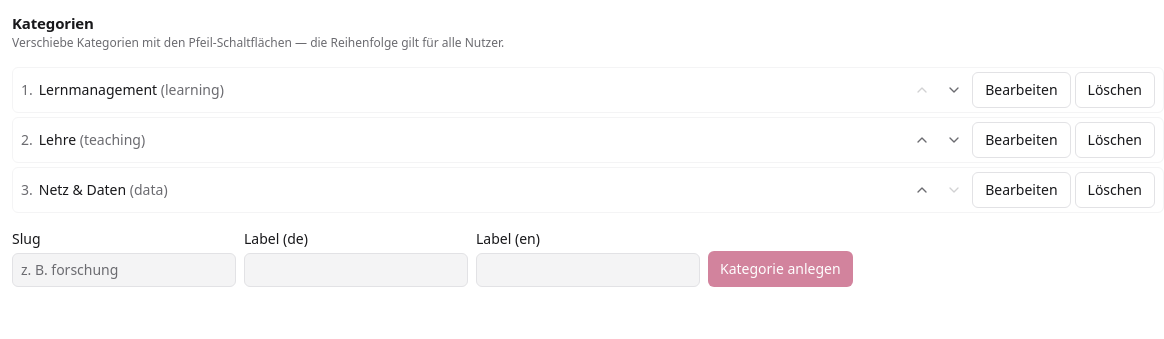
Test: CategoriesAdmin — edit, delete and reorder (issue #130) › keeps the frontend slug check as fast feedback, without owning the rule
Click the button "Bearbeiten" in the row of "Lernmanagement" at (1021, 90), box [972,72,1071,108]
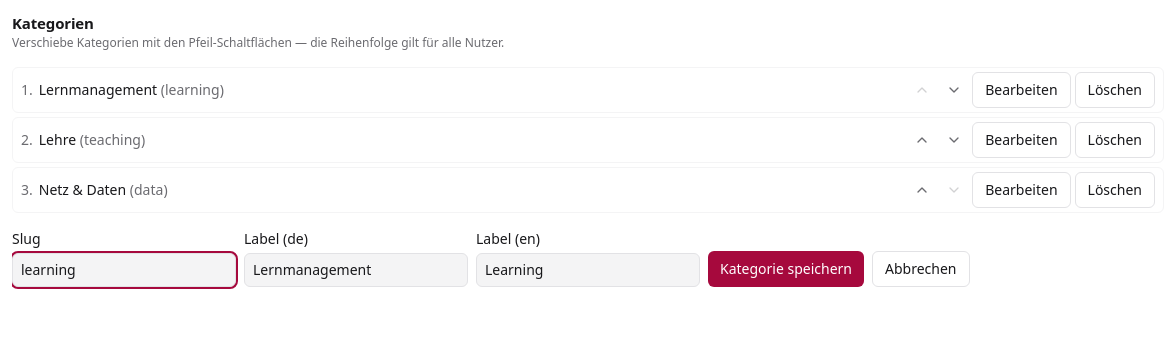
Replace the text in the field labelled "Slug" with "Foo Bar!!" at (124, 270), box [12,252,236,286]
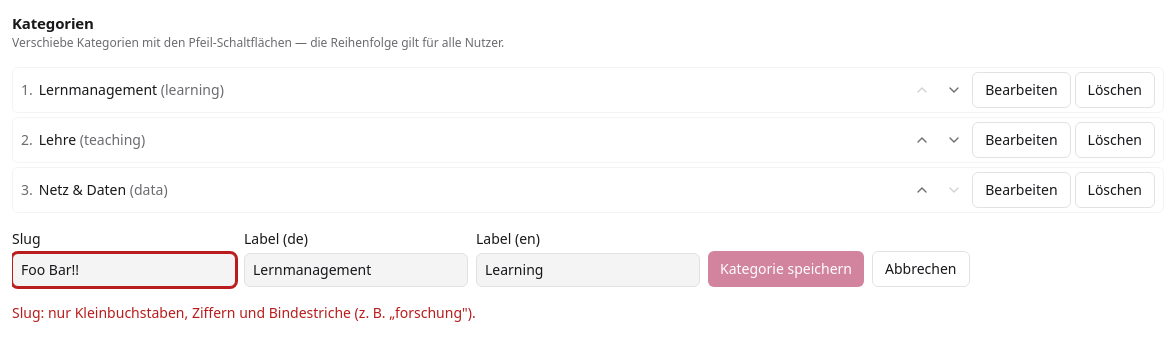
Expected: the button "Kategorie speichern" is disabled, [708,250,864,286]
Expected: the text "nur Kleinbuchstaben" is shown, [12,302,476,322]
